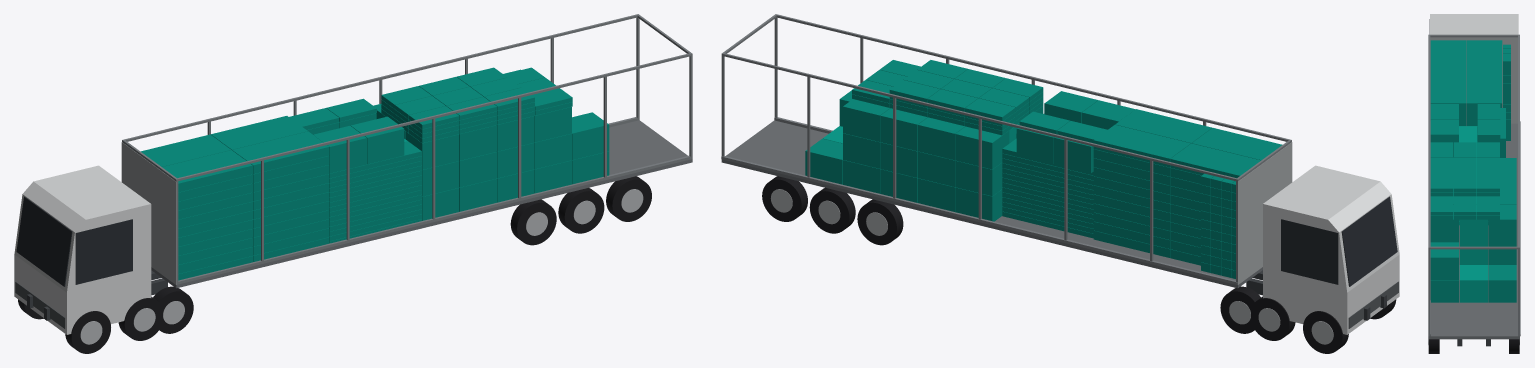
Rendered from carreta-CG09.glb.
3 renders of one model, left to right at view 1: azimuth 30°, elevation 25°; view 2: azimuth 150°, elevation 25°; view 3: azimuth 270°, elevation 25°, orthographic. The views are drawn at different scales.
Parts seen in each view (by area): view 1: cabine, piso, frente, janela, part27, part19, part98, part18, part20, part76, part99, part147 (+56 smaller); view 2: cabine, piso, frente, janela, part27, part21, part99, part20, part18, part77, part98, part156 (+46 smaller); view 3: piso, cabine, part99, part98, frente, part76, part77, part185, part186, part187, part183, part147 (+45 smaller).
Boxes of the visible parts, box(x1,y1,x2,y2) form: cabine: box(14, 165, 151, 334); piso: box(151, 120, 692, 288); frente: box(121, 142, 176, 284); janela: box(75, 219, 132, 284); part27: box(16, 196, 72, 286); part19: box(176, 156, 691, 284); part98: box(232, 131, 329, 173); part18: box(175, 53, 692, 181); part20: box(122, 14, 639, 142); part76: box(162, 150, 252, 192); part99: box(211, 116, 307, 149); part147: box(351, 116, 404, 164); cabine: box(1263, 165, 1399, 334); piso: box(721, 120, 1262, 288); frente: box(1238, 142, 1292, 284); janela: box(1281, 219, 1338, 284); part27: box(1341, 196, 1397, 286); part21: box(721, 156, 1237, 284); part99: box(1093, 125, 1190, 167); part20: box(721, 53, 1238, 181); part18: box(775, 14, 1290, 141); part77: box(1170, 143, 1260, 178); part98: box(1115, 109, 1211, 143); part156: box(955, 126, 1009, 169); piso: box(1428, 123, 1519, 339); cabine: box(1430, 14, 1518, 34); part99: box(1466, 72, 1502, 110); part98: box(1430, 72, 1466, 110); frente: box(1430, 37, 1517, 123); part76: box(1430, 40, 1466, 71); part77: box(1466, 40, 1502, 71); part185: box(1459, 265, 1487, 302); part186: box(1488, 265, 1516, 302); part187: box(1430, 242, 1458, 279); part183: box(1488, 204, 1516, 241); part147: box(1430, 119, 1458, 156).
Size of the model in its own units: 17.14 by 3.99 by 2.58.
